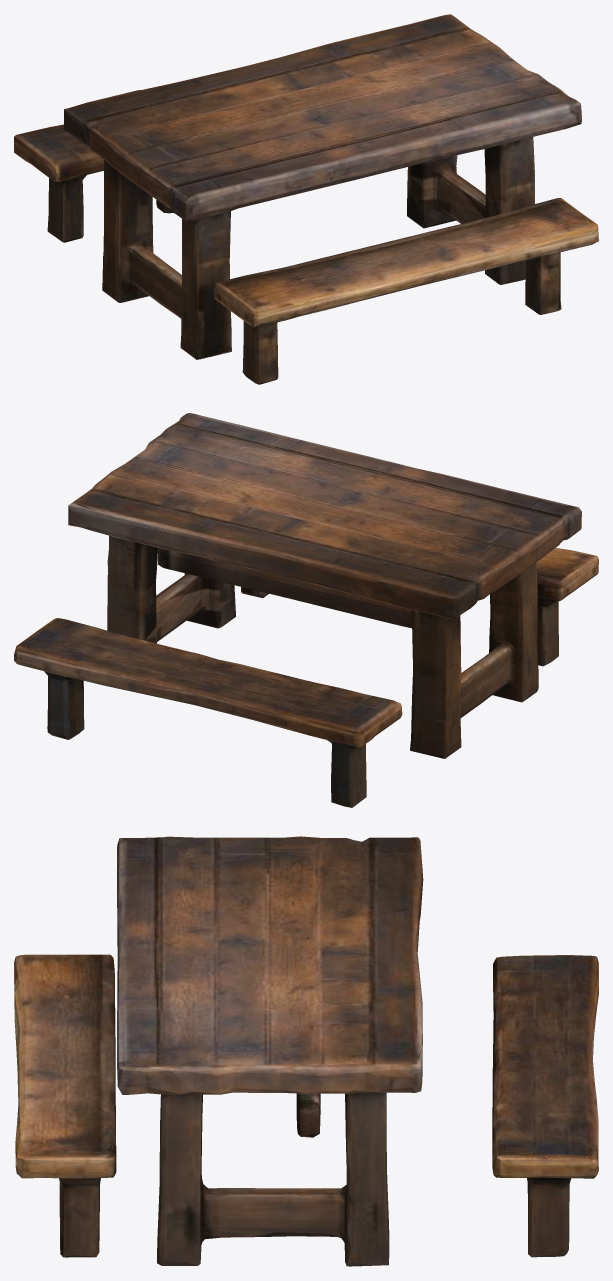
The model's file is table_bench_tavern_lod0.glb.
The picture shows the model from 3 angles, top to bottom: view 1: azimuth 30°, elevation 25°; view 2: azimuth 150°, elevation 25°; view 3: azimuth 270°, elevation 25°; orthographic projection. The views are drawn at different scales.
Visible parts, largest first — view 1: table_bench_tavern_lod0; view 2: table_bench_tavern_lod0; view 3: table_bench_tavern_lod0.
Boxes of the visible parts, x1,y1,x2,y2 form: table_bench_tavern_lod0: (14, 14, 598, 384); table_bench_tavern_lod0: (14, 413, 598, 807); table_bench_tavern_lod0: (14, 836, 598, 1266).
Size of the model in its own units: 2.27 by 0.9856 by 2.4.
Materials: 1 (1 with a texture image).
